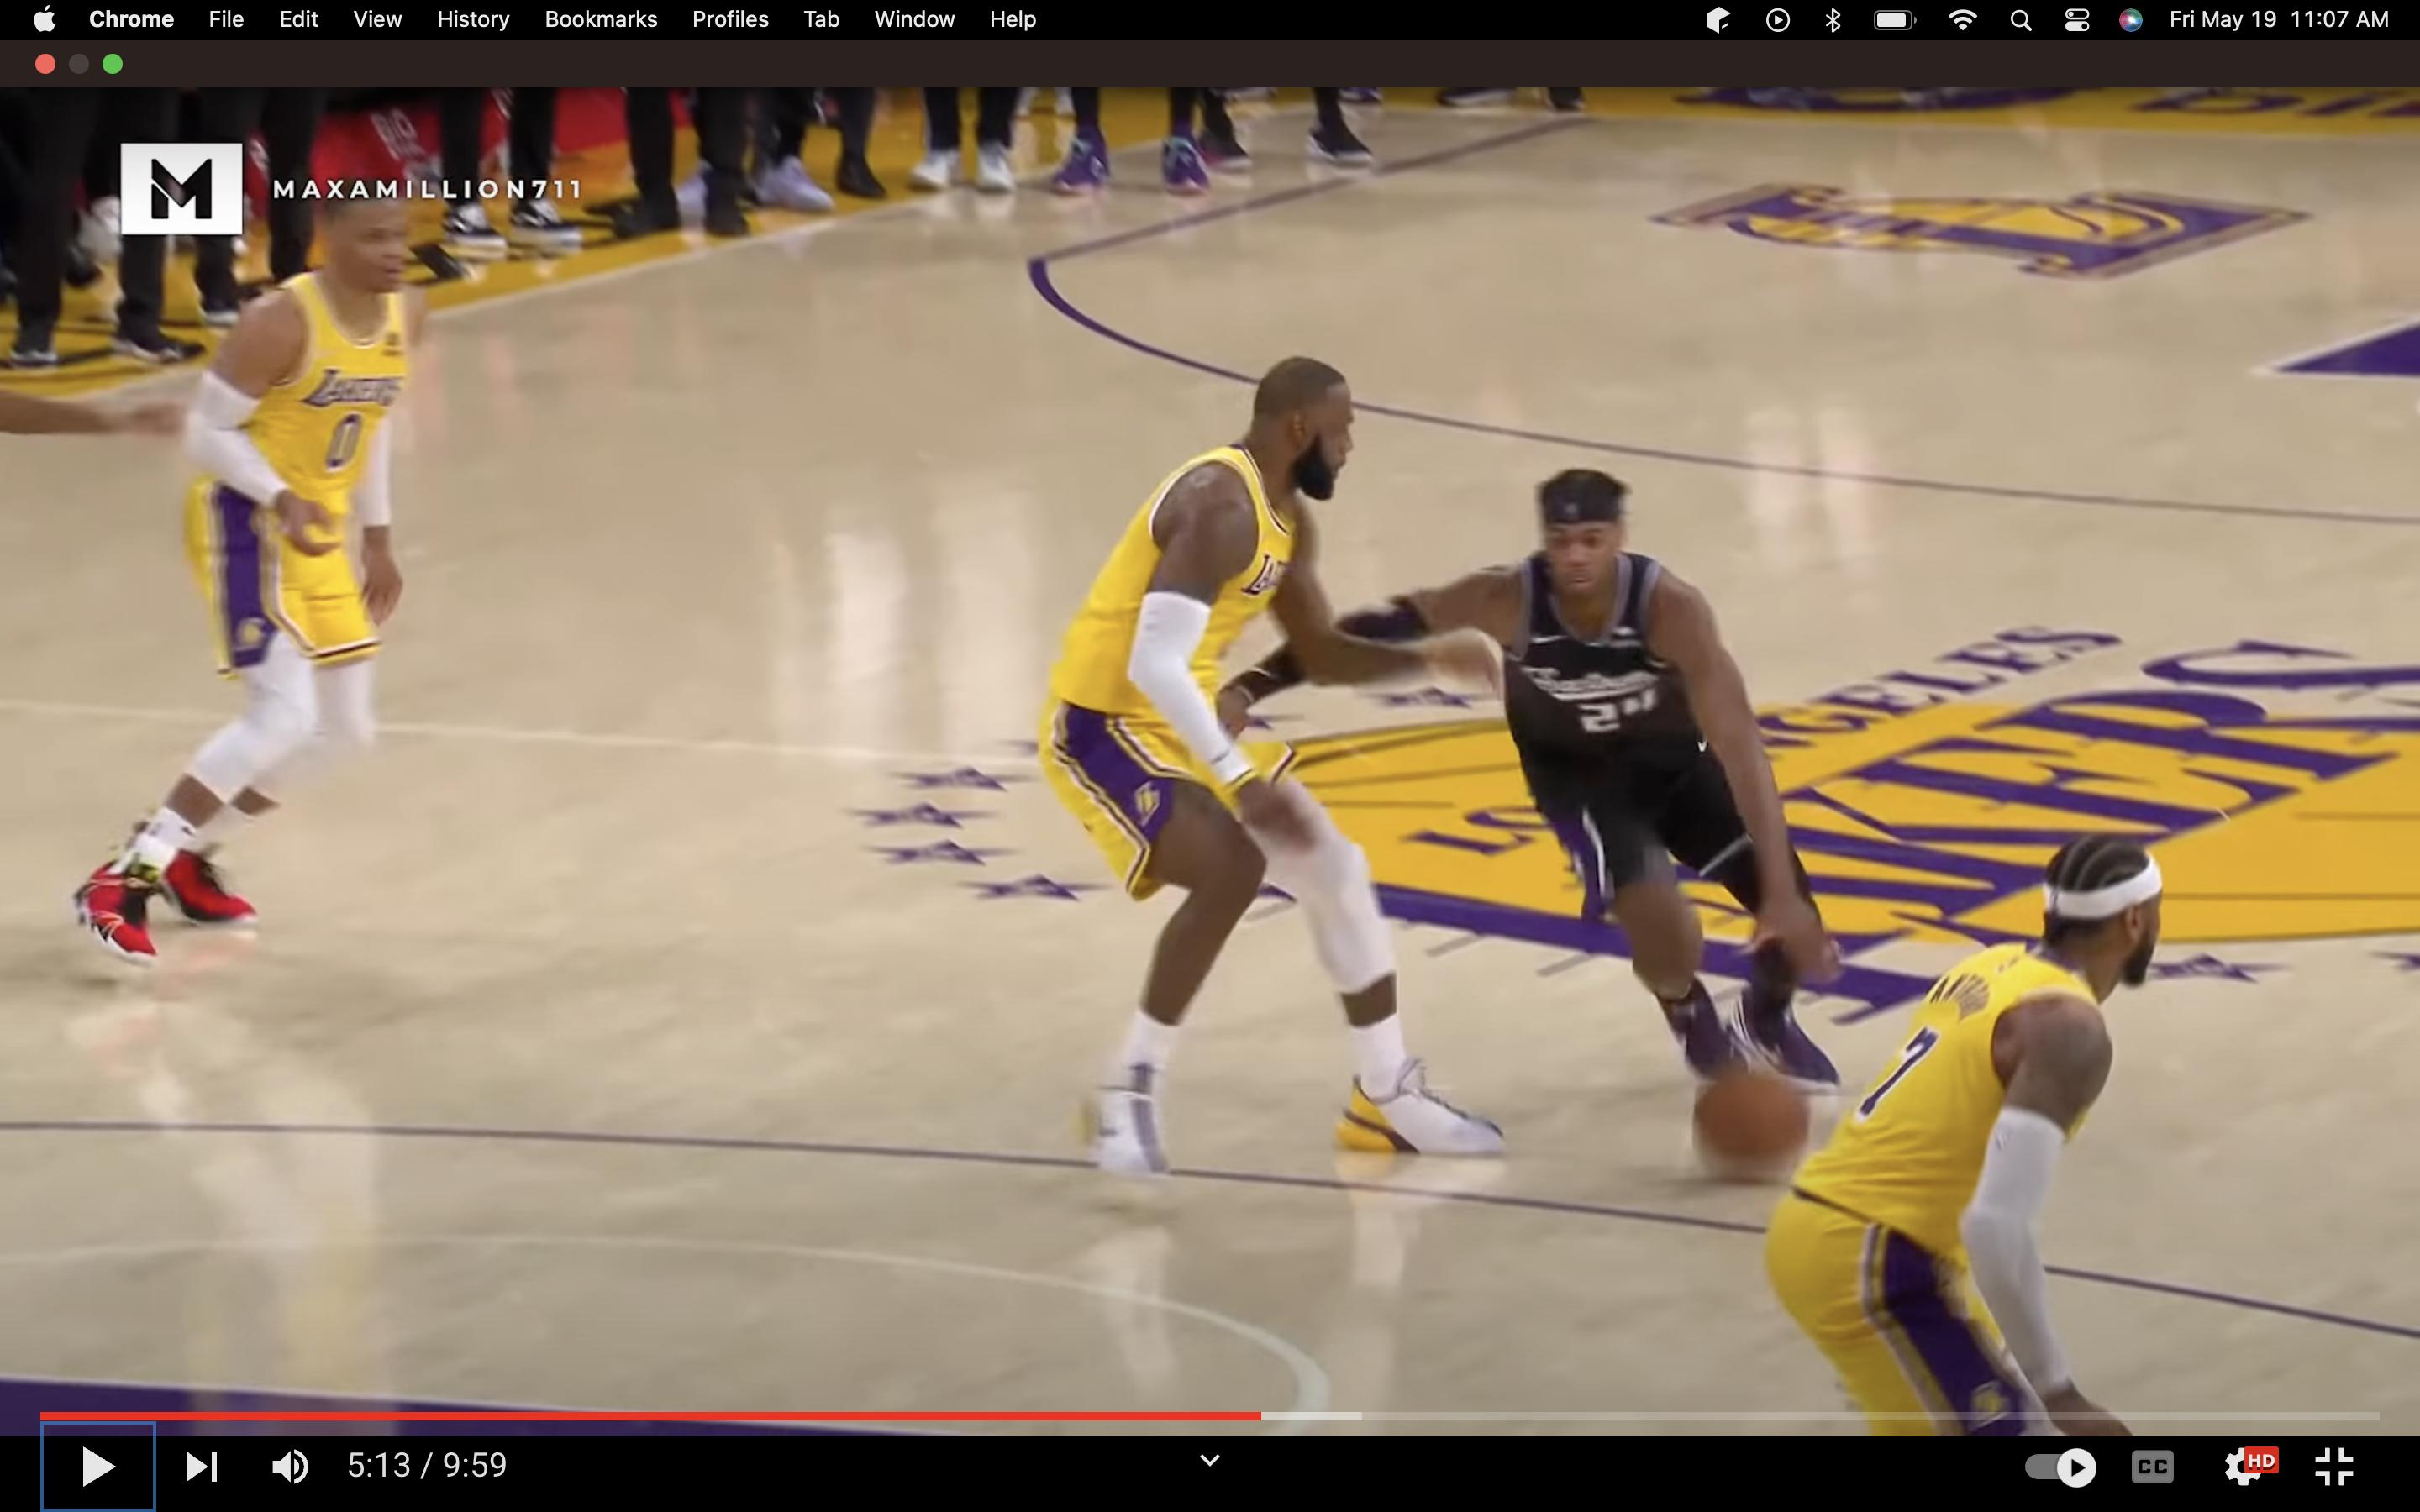Ball: (1685, 1069, 1810, 1173)
Dribble: (1696, 1151, 1798, 1213)
Person: (1023, 354, 1510, 1187), (1209, 466, 1859, 1086), (63, 168, 434, 966), (1760, 822, 2195, 1442)
